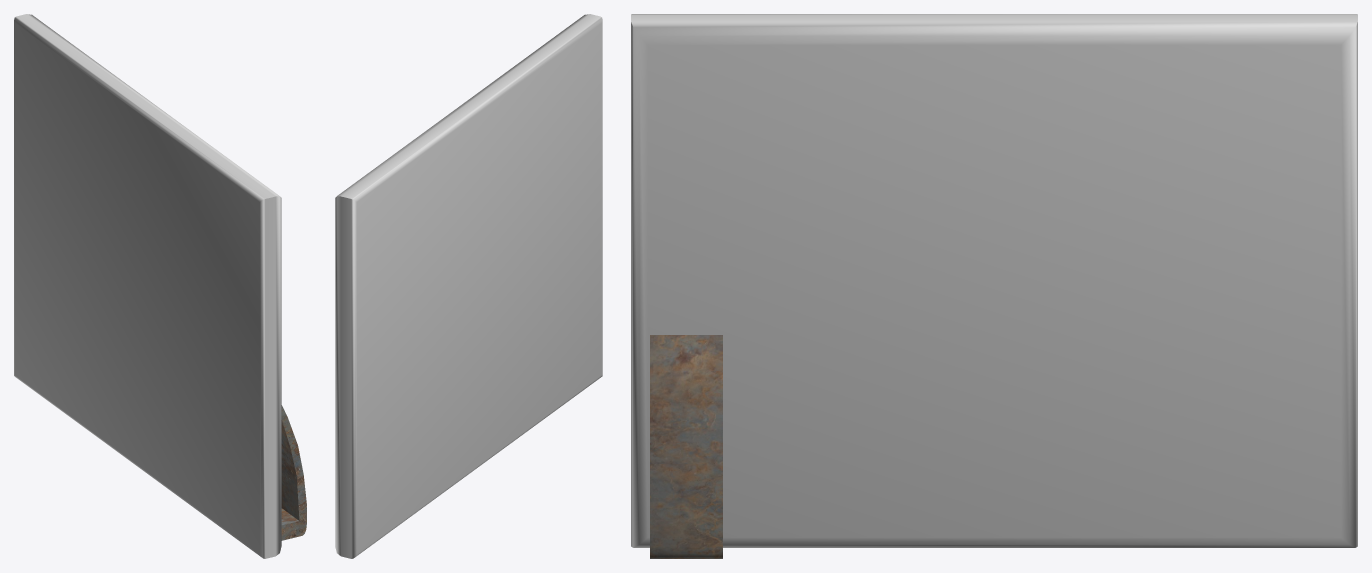
Rendered from HeladeraPuertaDeArriba.fbx.
3 renders of one model, left to right at view 1: azimuth 30°, elevation 25°; view 2: azimuth 150°, elevation 25°; view 3: azimuth 270°, elevation 25°, orthographic. The views are drawn at different scales.
Visible parts, largest first — view 1: Cube.003; view 2: Cube.003; view 3: Cube.003.
Boxes of the visible parts, box(x1,y1,x2,y2) form: Cube.003: box(14, 14, 306, 558); Cube.003: box(335, 14, 602, 558); Cube.003: box(631, 14, 1357, 558).
Size of the model in its own units: 15.15 by 101 by 127.
Materials: 2 (1 with a texture image).
